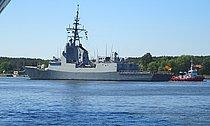MIL_Ship: (22, 17, 175, 82)
